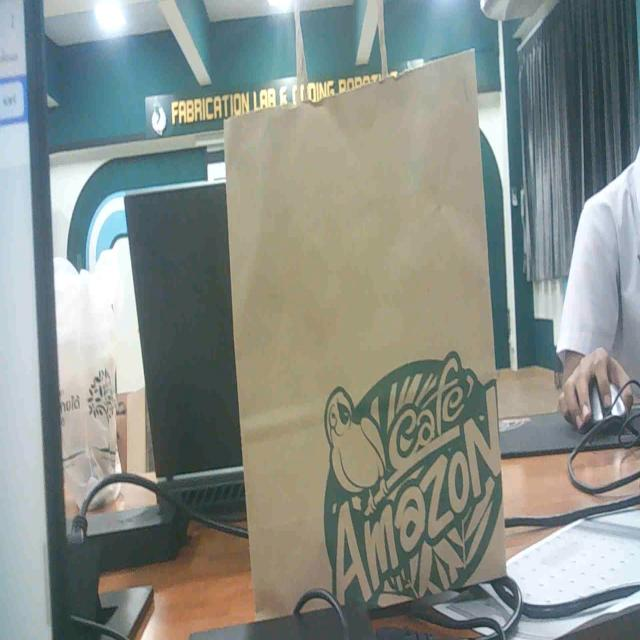bag: (206, 28, 525, 635)
